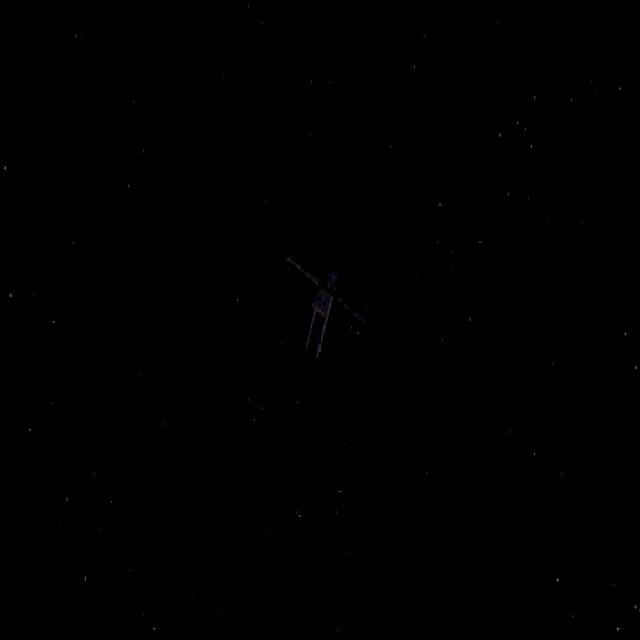satellite: (277, 238, 381, 366)
